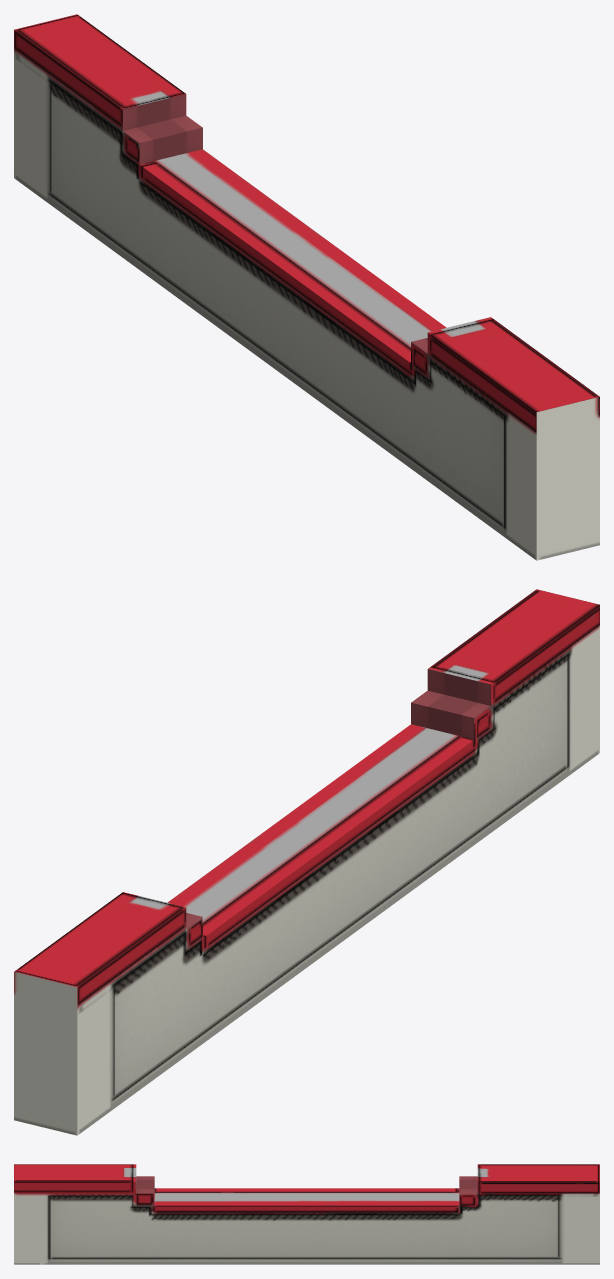
Rendered from Vert Color Test.fbx.
3 renders of one model, top to bottom at view 1: azimuth 30°, elevation 25°; view 2: azimuth 150°, elevation 25°; view 3: azimuth 270°, elevation 25°, orthographic. The views are drawn at different scales.
Parts seen in each view (by area): view 1: polySurface53; view 2: polySurface53; view 3: polySurface53.
Part boxes in pixels (left/top/right/bottom): polySurface53: left=14, top=14, right=599, bottom=560; polySurface53: left=14, top=589, right=599, bottom=1135; polySurface53: left=14, top=1164, right=599, bottom=1264.
Bounding box in the file's own units: 1.04 × 2.34 × 14.92.
Materials: 1 (1 with a texture image).
